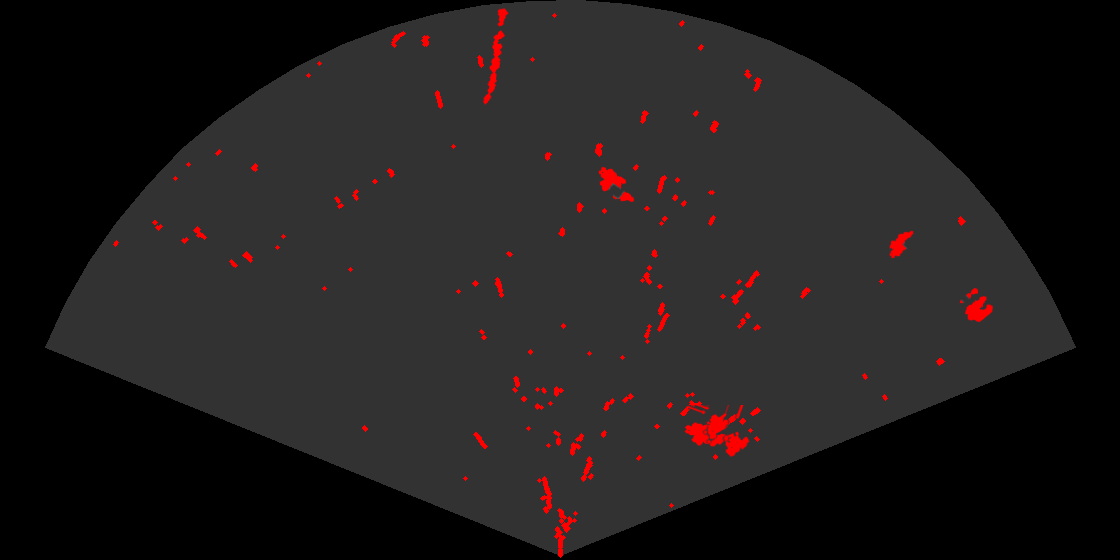AUV: (597, 165, 636, 204), (683, 421, 733, 448), (888, 229, 915, 260)
ball: (958, 286, 995, 324)
cage: (688, 405, 751, 459)
chain: (482, 6, 510, 106)
